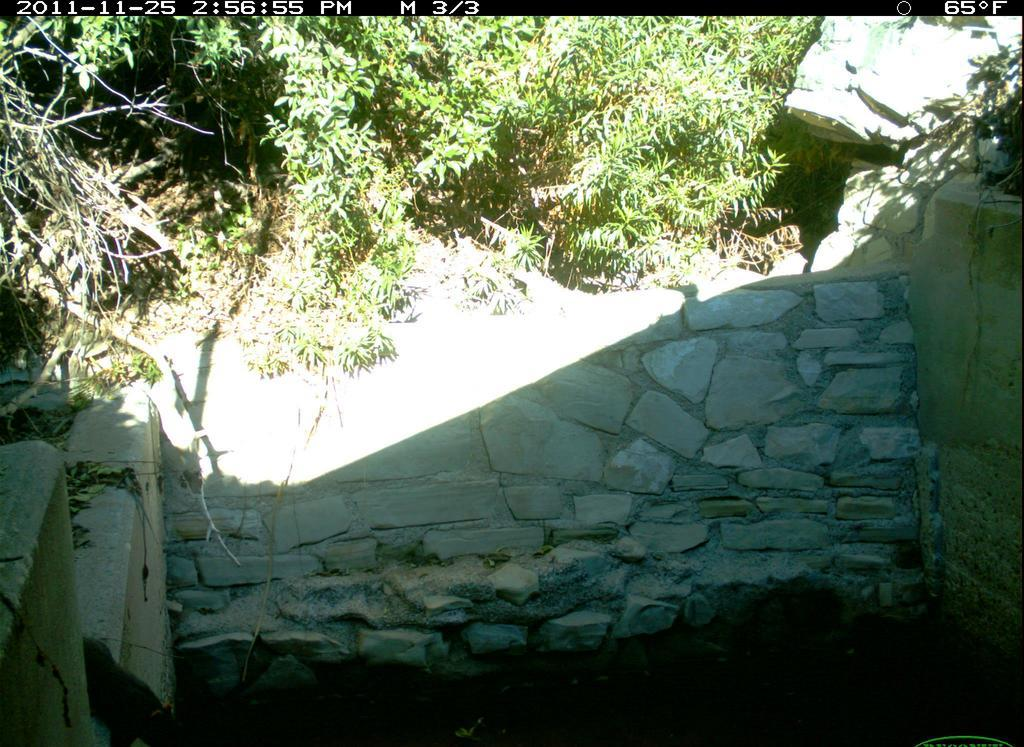squirrel: (67, 639, 190, 742)
